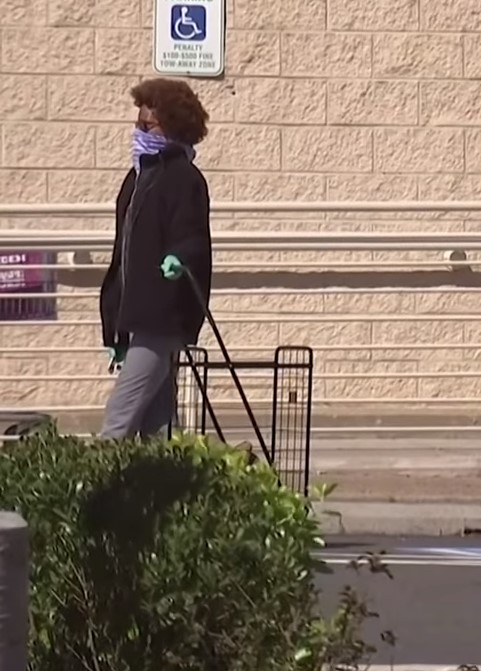face_with_mask: (125, 78, 204, 169)
